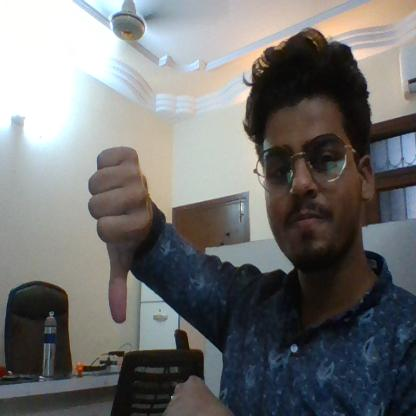thumbs-down: (86, 144, 146, 323)
